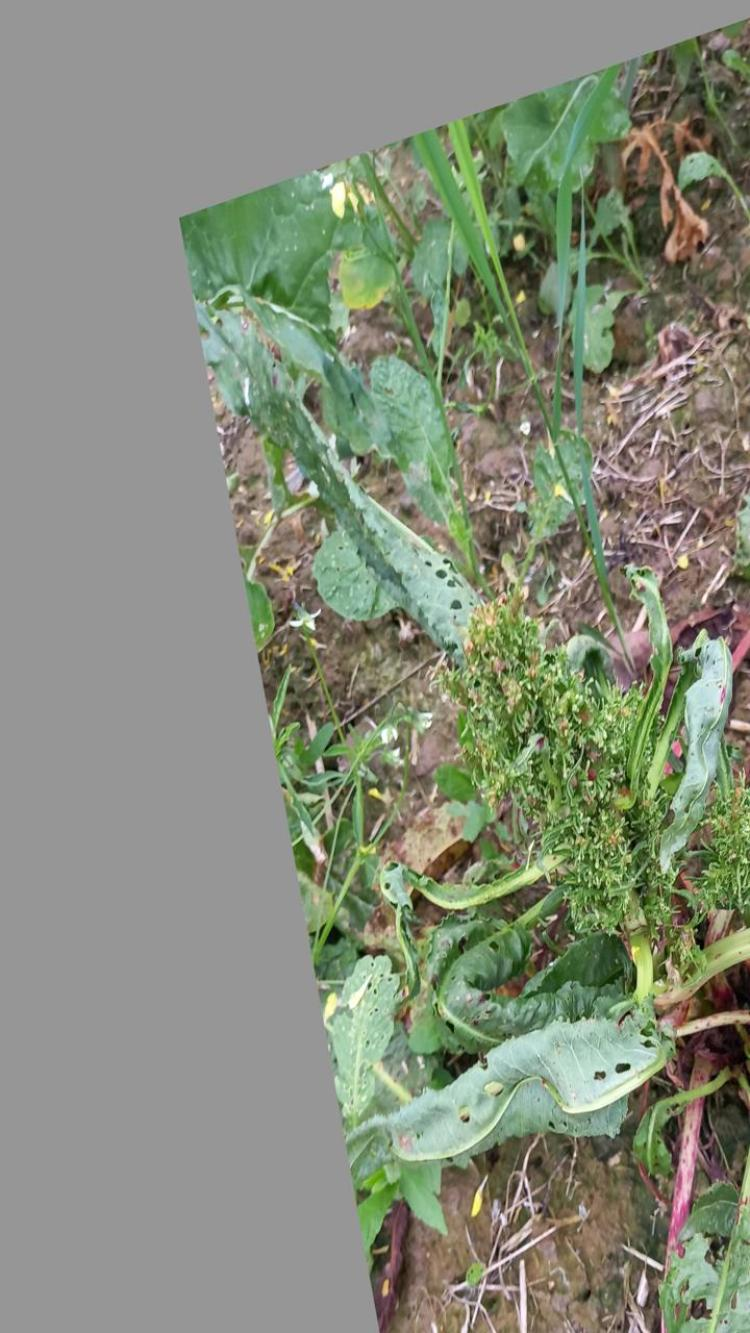zhavel: (296, 602, 750, 1333)
